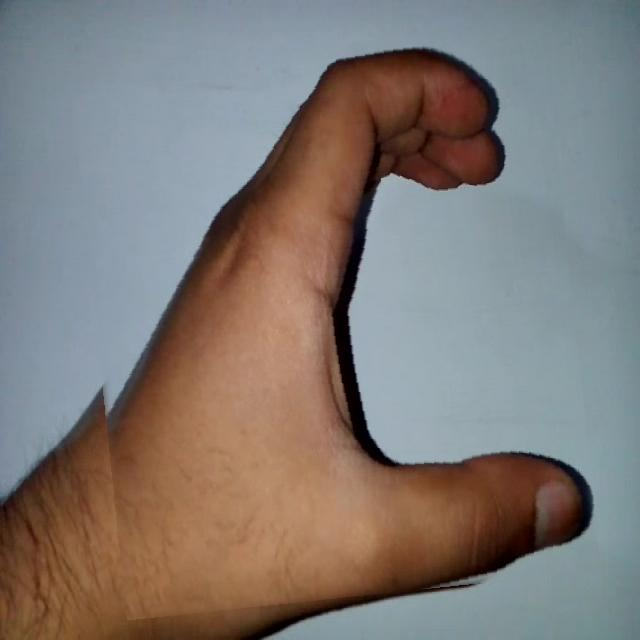C: (83, 33, 588, 609)
